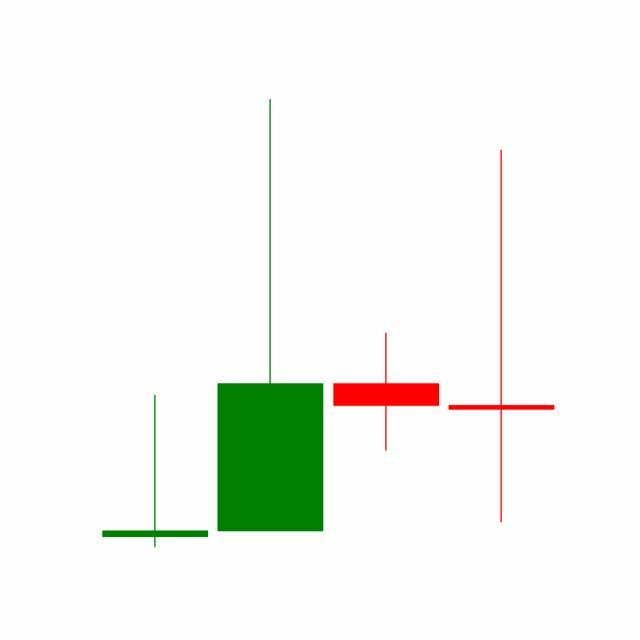Spinning Top: (329, 332, 445, 453)
